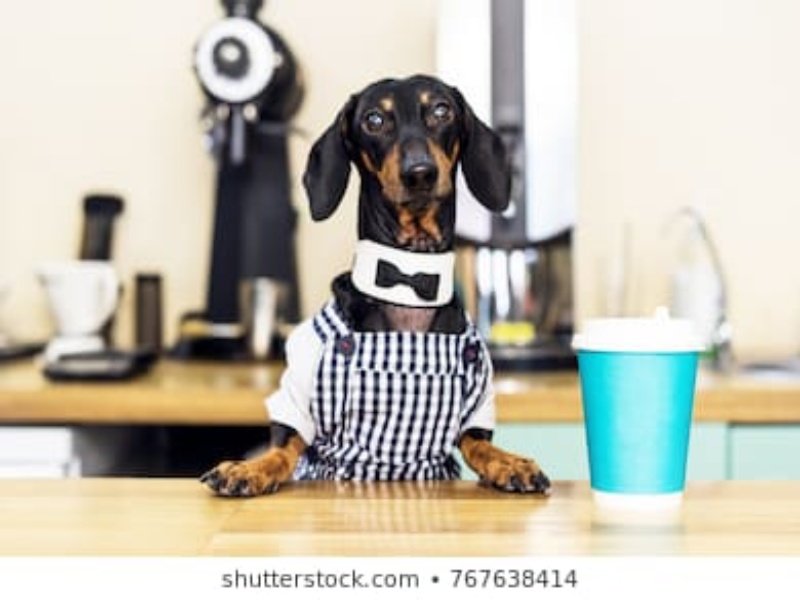coffee-lid: (568, 305, 713, 358)
plastic-cup: (570, 301, 713, 532)
